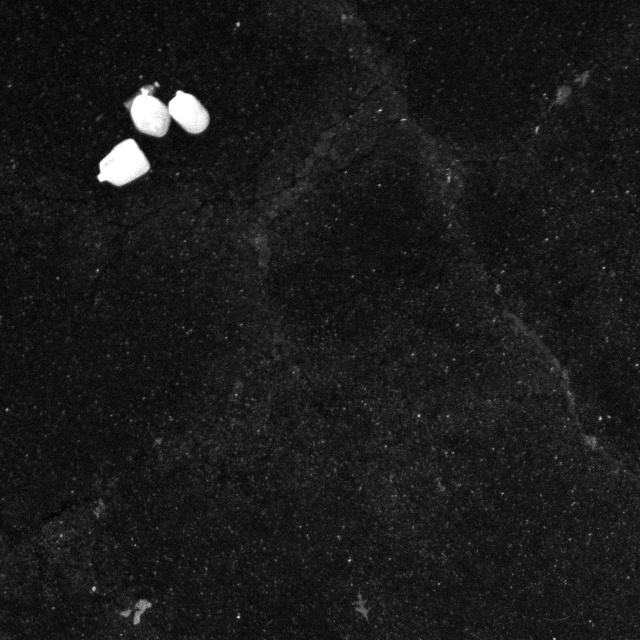can: (88, 132, 153, 186), (124, 86, 174, 141), (162, 89, 208, 140)
